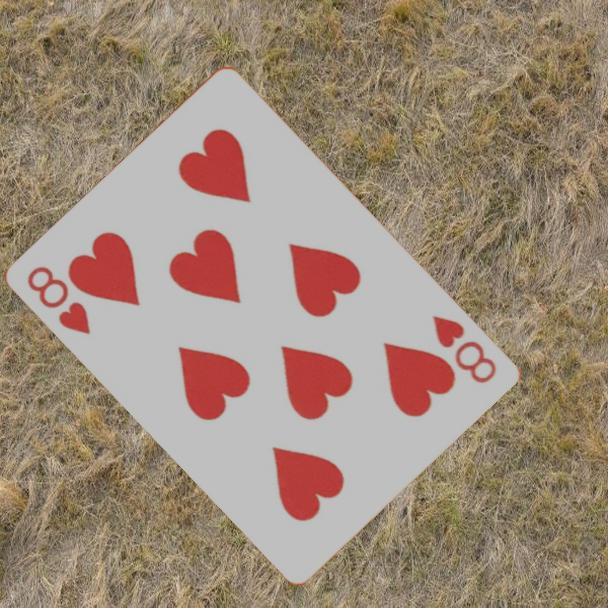h08: (430, 311, 501, 387), (24, 262, 94, 338)
